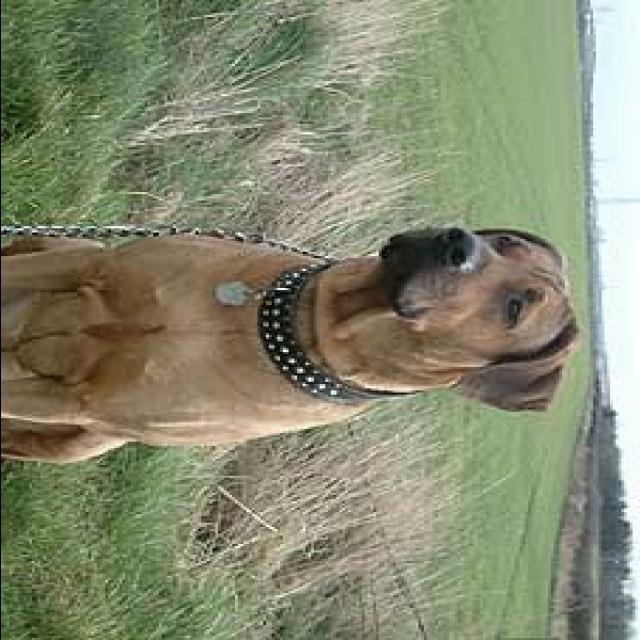rhodesian_ridgeback: (3, 224, 581, 463)
